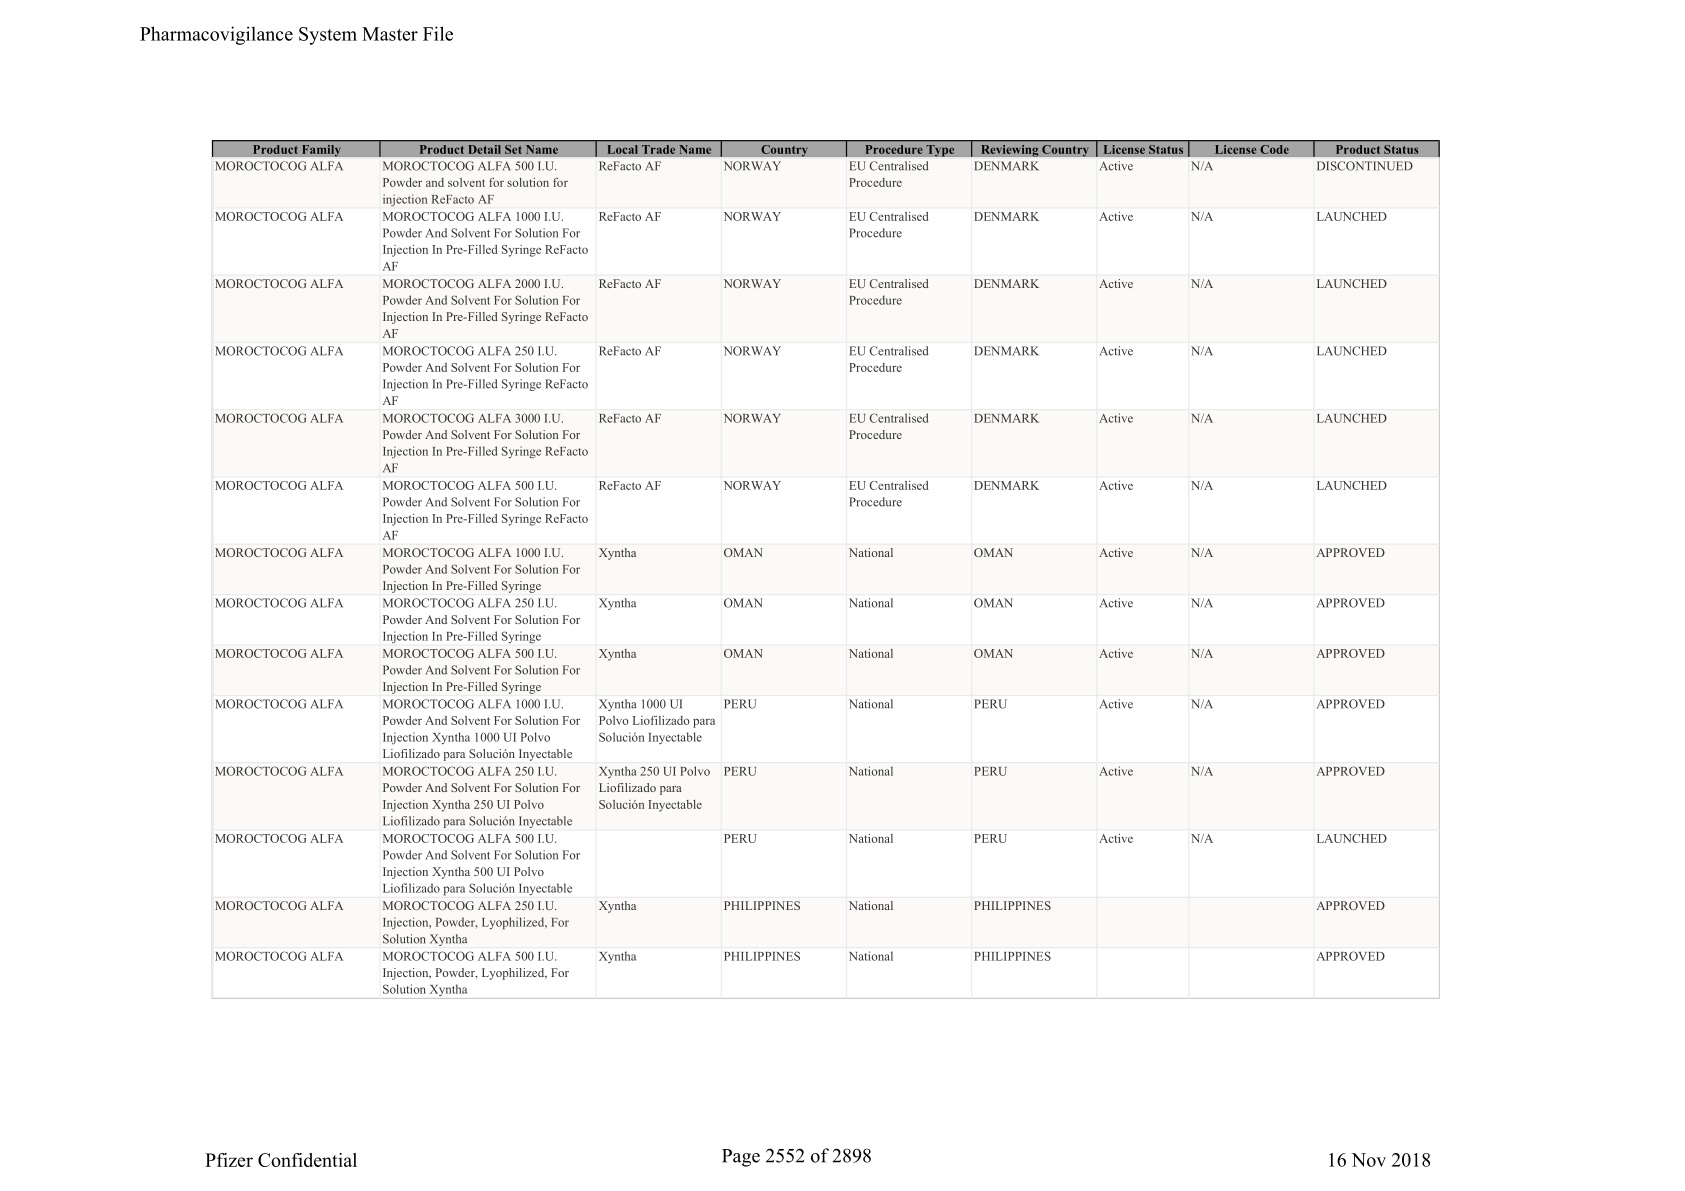full_lined: (211, 139, 1439, 999)
